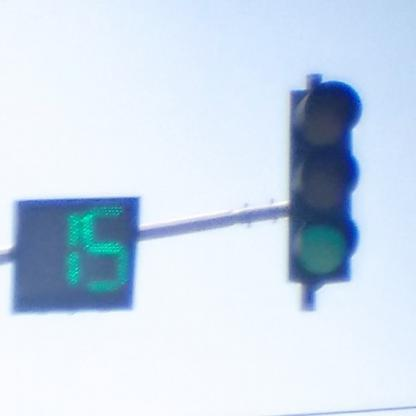green: (288, 83, 362, 284)
